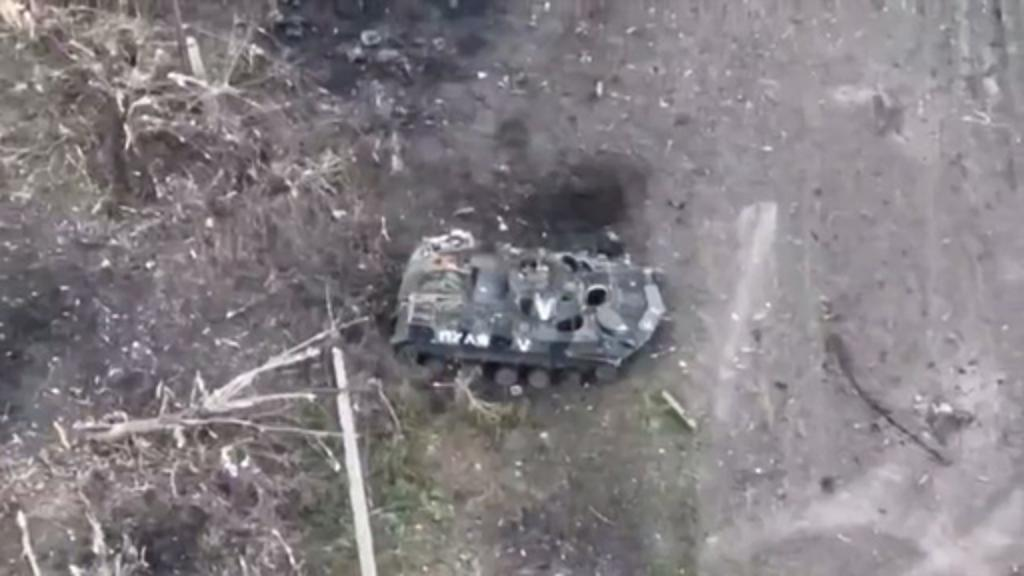APC-IFV: (378, 220, 674, 392)
